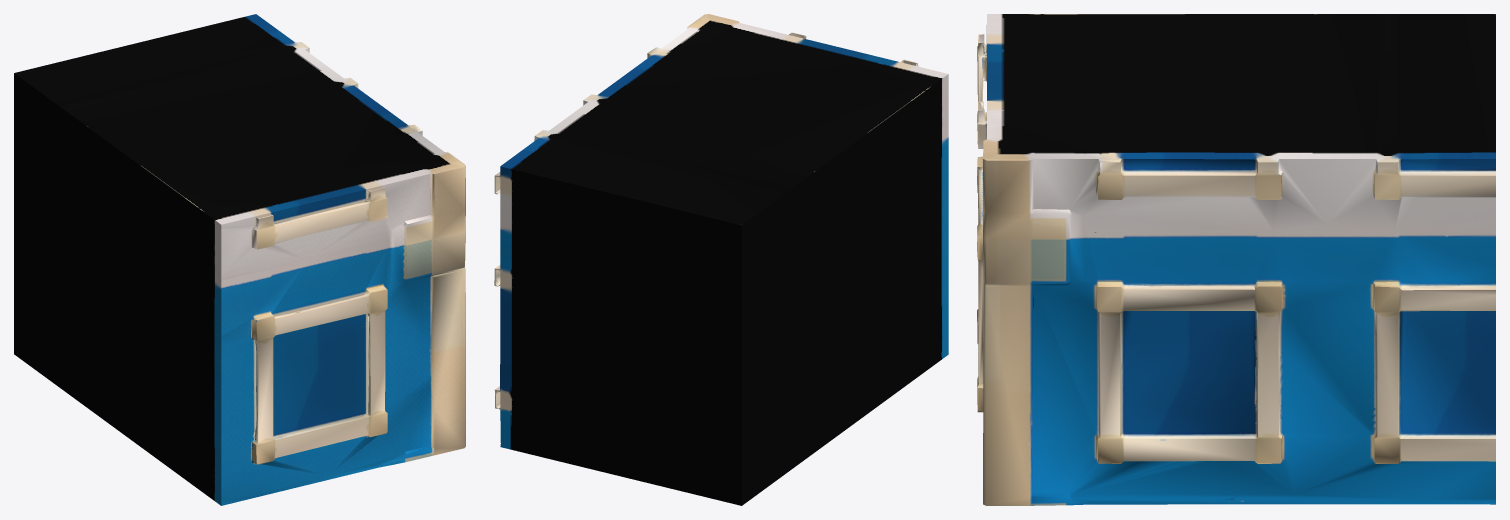
The model's file is 6-upper-walls-front-right.fbx.
3 renders of one model, left to right at view 1: azimuth 30°, elevation 25°; view 2: azimuth 150°, elevation 25°; view 3: azimuth 270°, elevation 25°, orthographic. The views are drawn at different scales.
Visible parts, largest first — view 1: upper-walls-front-right; view 2: upper-walls-front-right; view 3: upper-walls-front-right.
Boxes of the visible parts, <box> form: upper-walls-front-right: <box>14,14,465,505</box>; upper-walls-front-right: <box>494,14,948,505</box>; upper-walls-front-right: <box>977,14,1495,505</box>.
Bounding box in the file's own units: 4469 × 4835 × 6582.
Materials: 1 (1 with a texture image).
